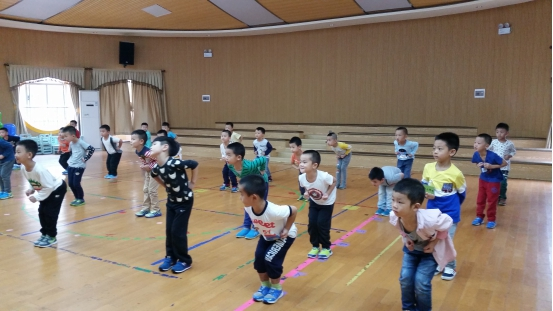other: (385, 176, 457, 307), (236, 173, 305, 308), (144, 136, 204, 276), (13, 137, 72, 252), (294, 148, 345, 261), (61, 124, 100, 208)
